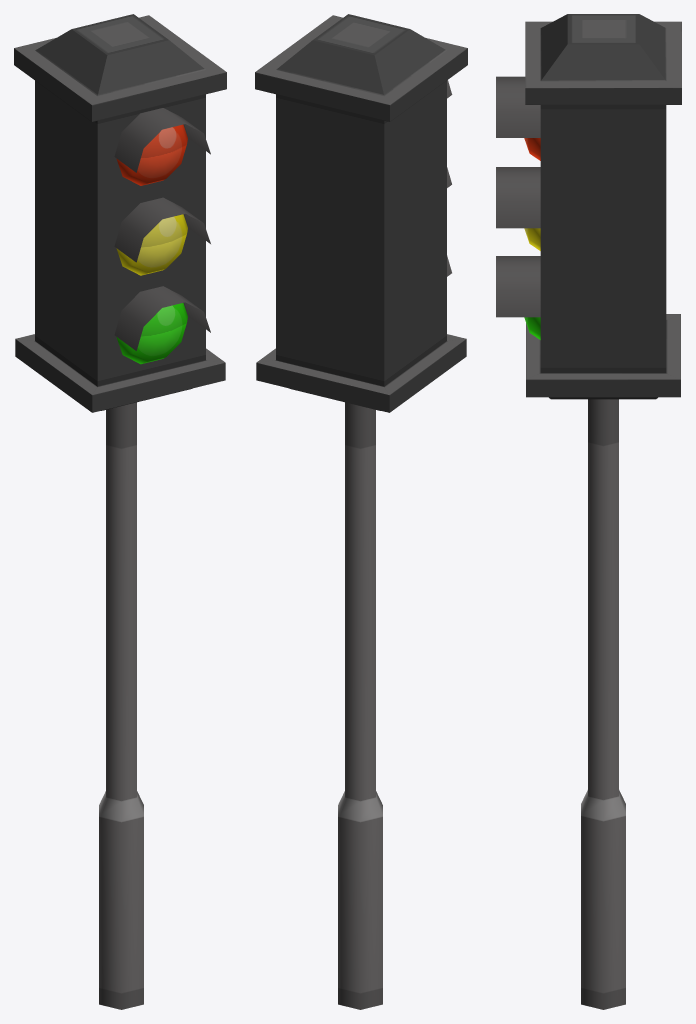
The model's file is city_traffic_light.fbx.
3 views of the same model, side by side, from view 1: azimuth 30°, elevation 25°; view 2: azimuth 150°, elevation 25°; view 3: azimuth 270°, elevation 25° (orthographic).
Parts seen in each view (by area): view 1: city:polySurface315; view 2: city:polySurface315; view 3: city:polySurface315.
Boxes of the visible parts, x1,y1,x2,y2 form: city:polySurface315: (14, 14, 226, 1009); city:polySurface315: (255, 14, 467, 1009); city:polySurface315: (496, 14, 681, 1009).
Size of the model in its own units: 0.5216 by 3.56 by 0.6183.
